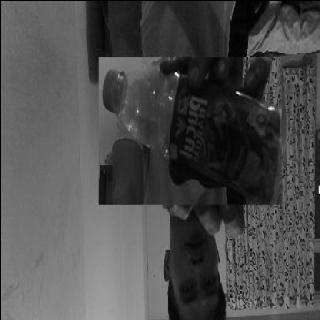plastic_bottles: (97, 56, 280, 204)
